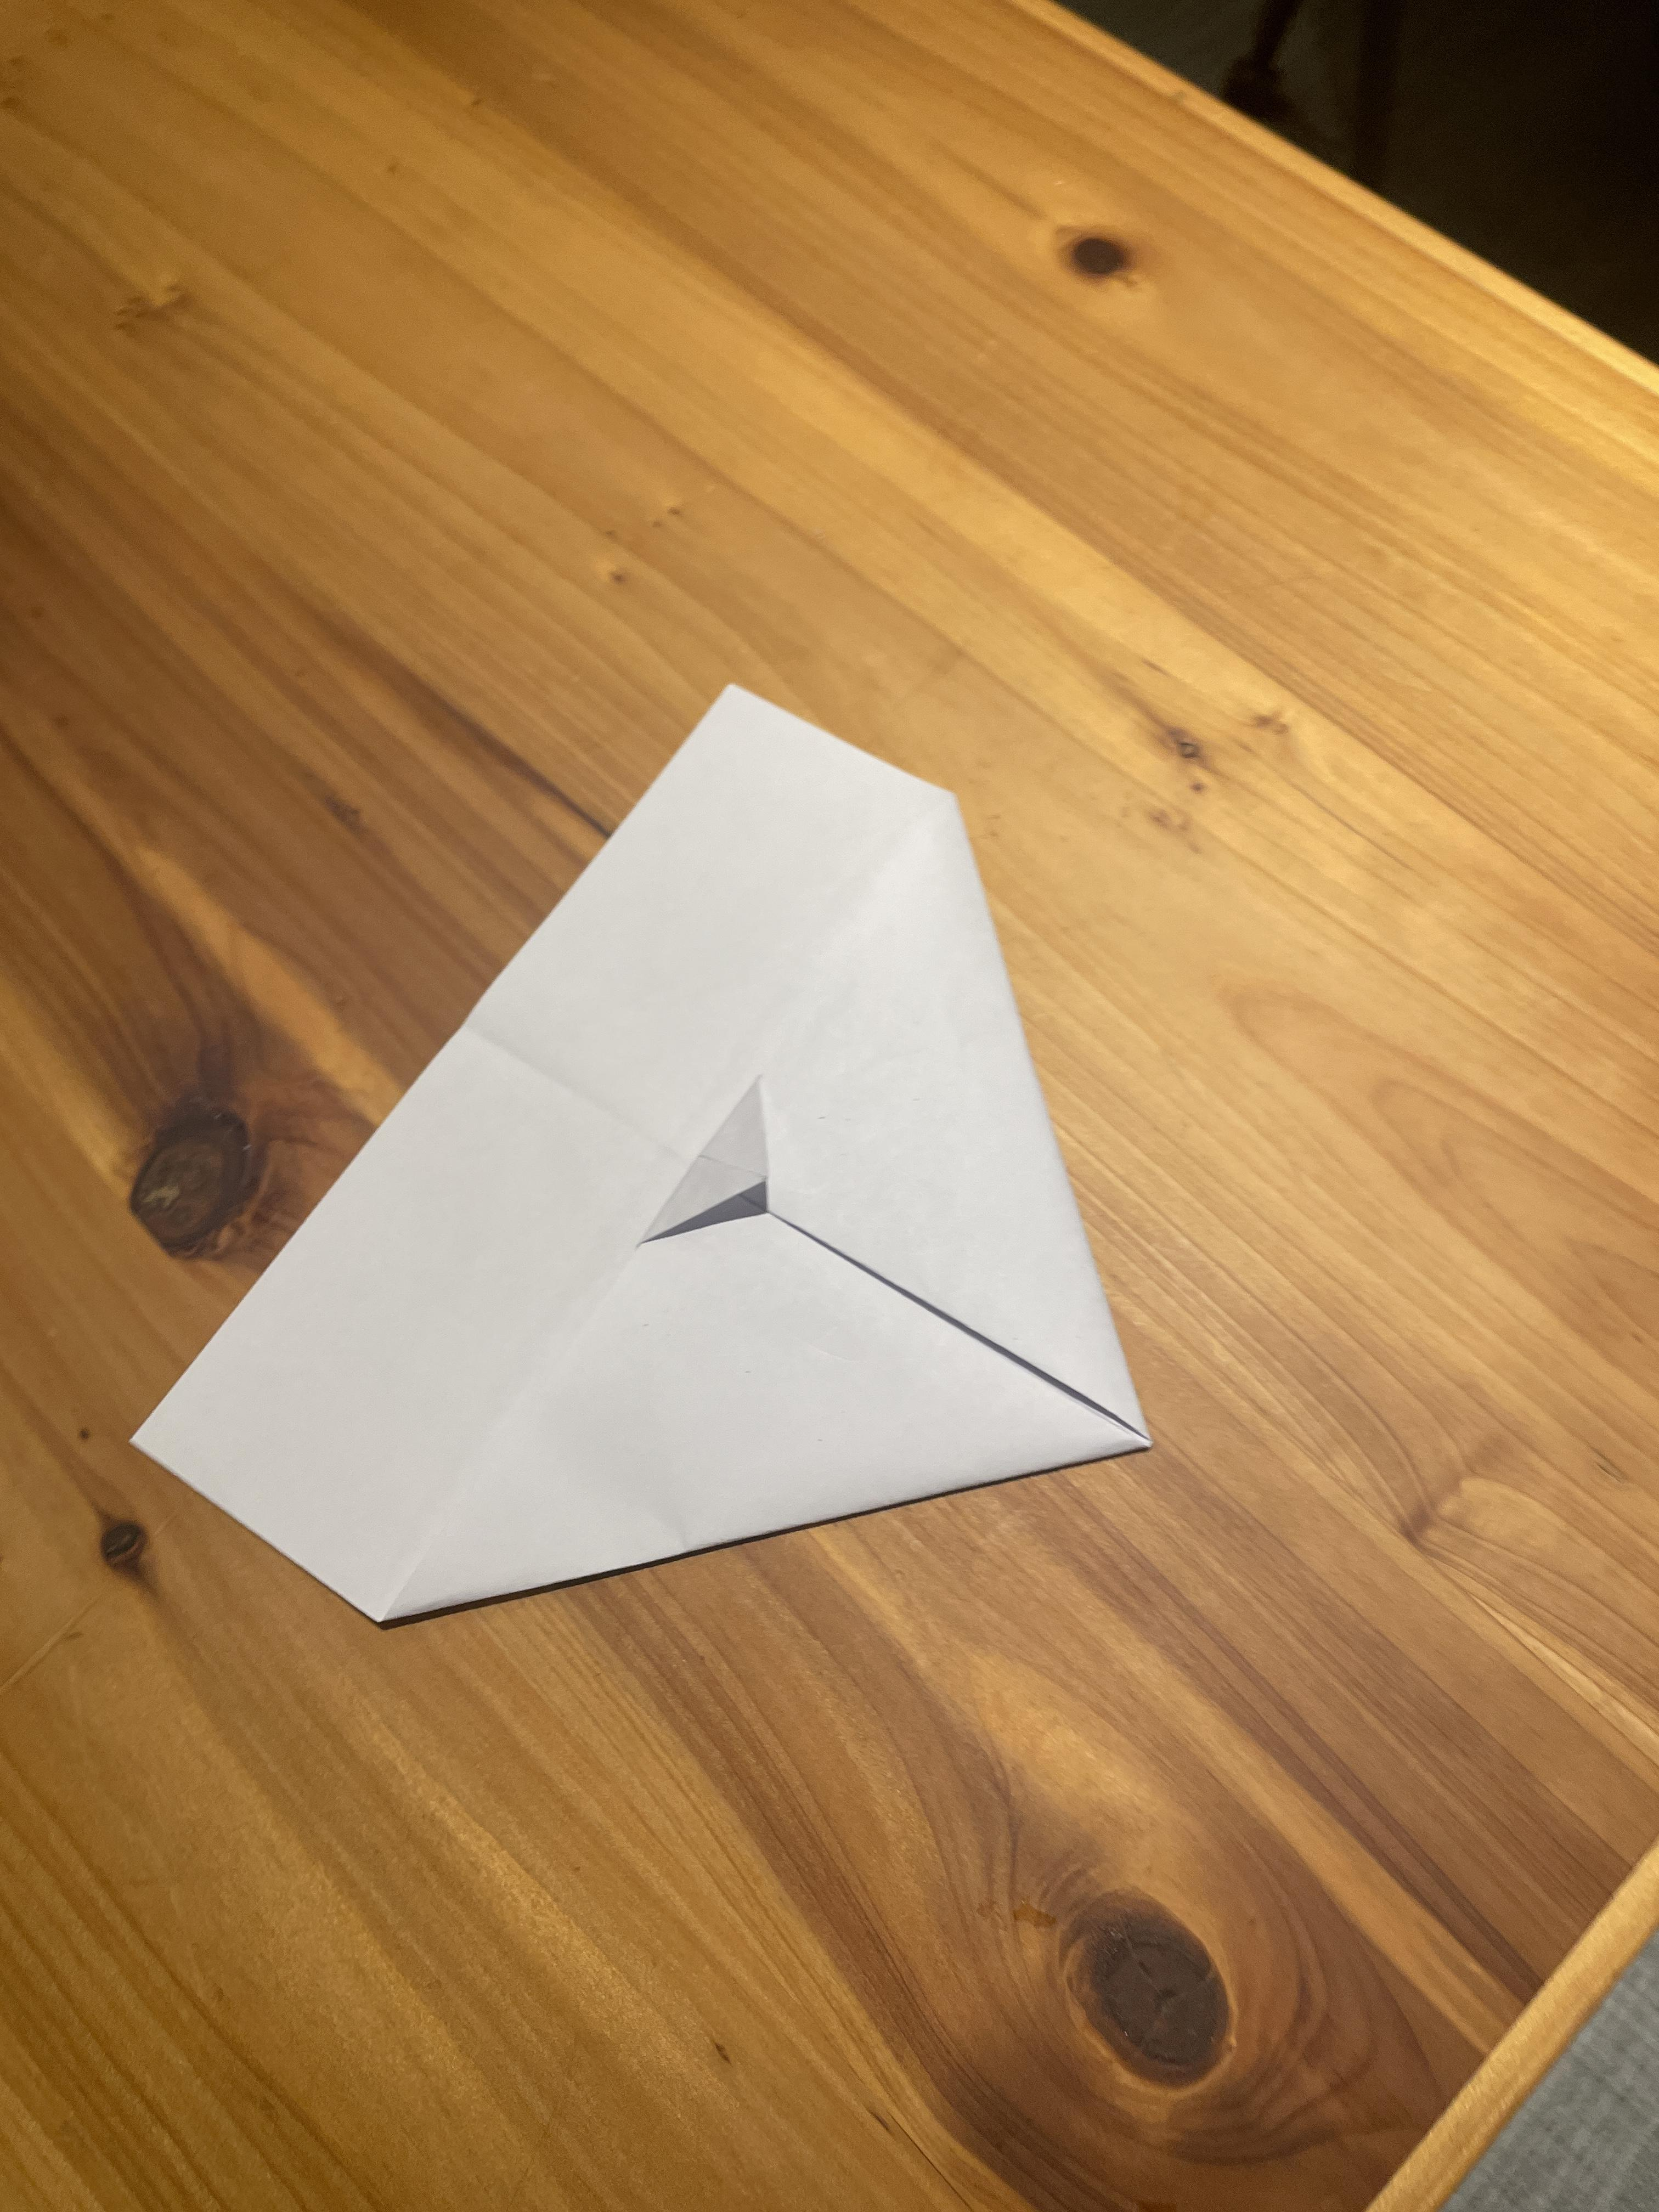shape_2: (16, 500, 1347, 1810)
